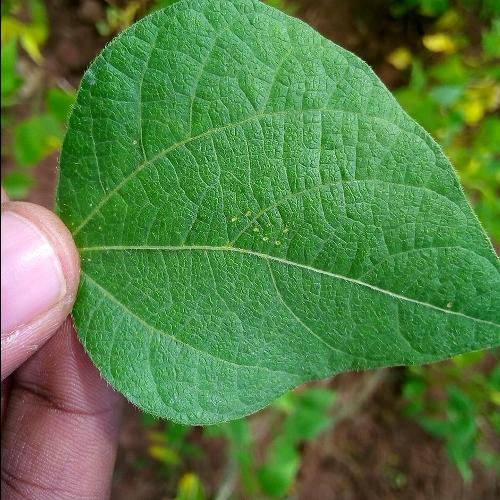sehat: (100, 116, 404, 349)
